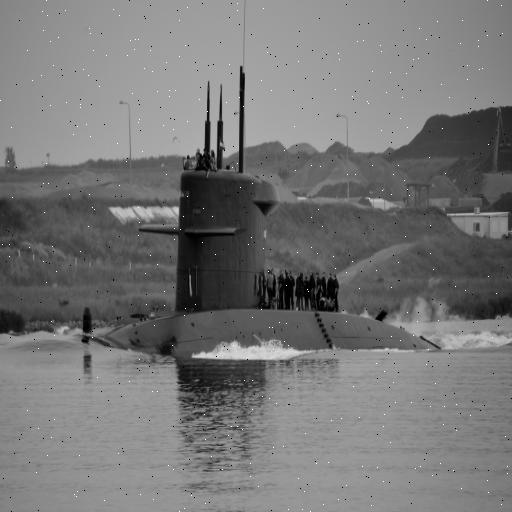submarine: (94, 171, 448, 350)
